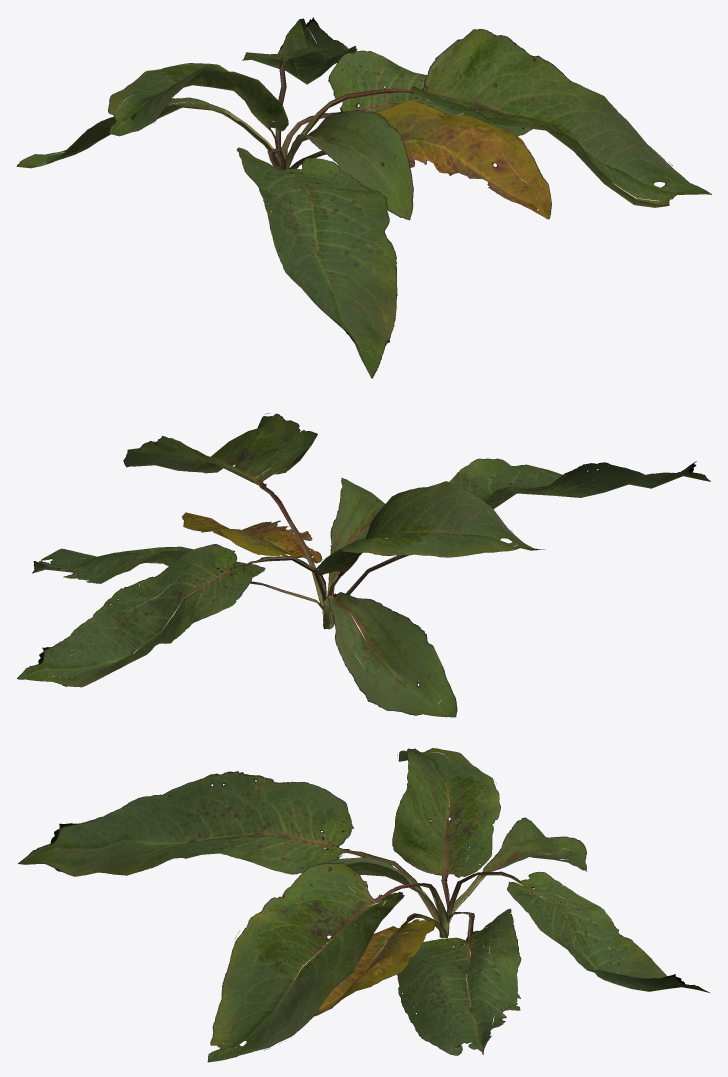
File: weeds.glb
3 views of the same model, one above another, from view 1: azimuth 30°, elevation 25°; view 2: azimuth 150°, elevation 25°; view 3: azimuth 270°, elevation 25° (orthographic). The views are drawn at different scales.
Visible parts, largest first — view 1: weed_plant_02_a_LOD0; view 2: weed_plant_02_a_LOD0; view 3: weed_plant_02_a_LOD0.
Boxes of the visible parts, bbox=[...] form: weed_plant_02_a_LOD0: bbox=[16, 17, 711, 378]; weed_plant_02_a_LOD0: bbox=[17, 413, 710, 717]; weed_plant_02_a_LOD0: bbox=[18, 748, 709, 1062].
Size of the model in its own units: 0.2194 by 0.0725 by 0.2909.
1 material, 1 textured.
